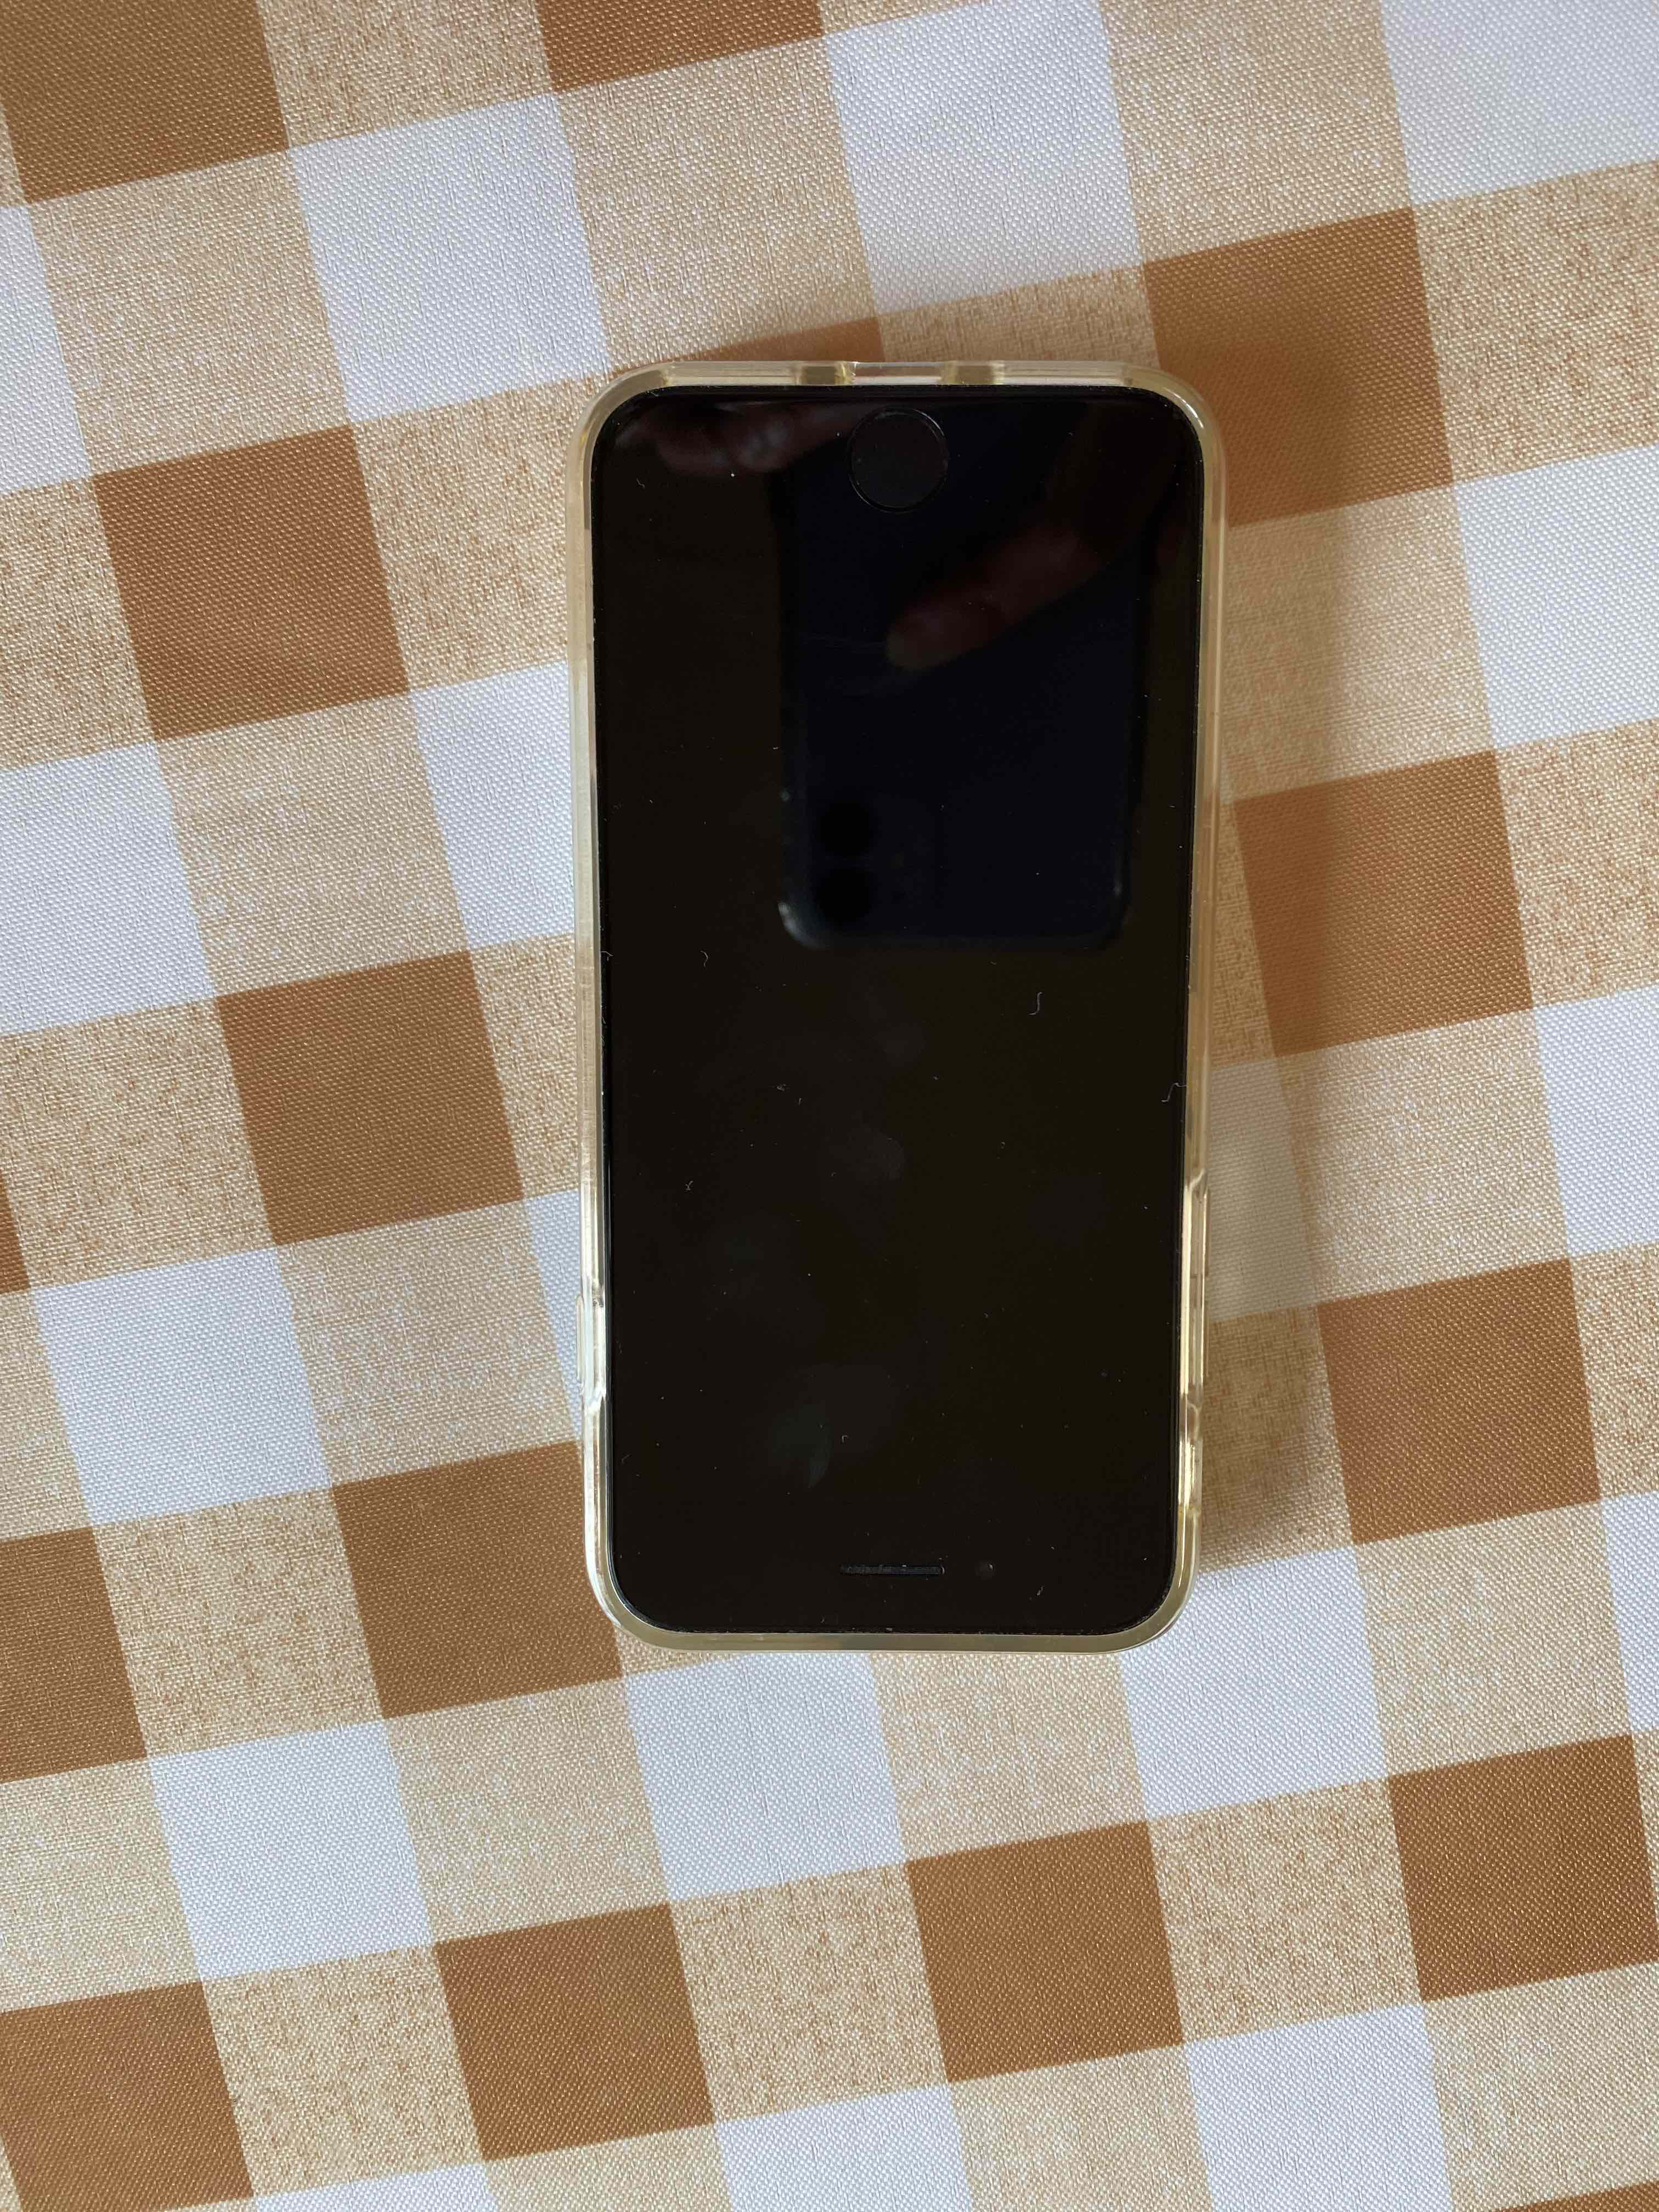Cell Phone: (584, 355, 1199, 1656)
